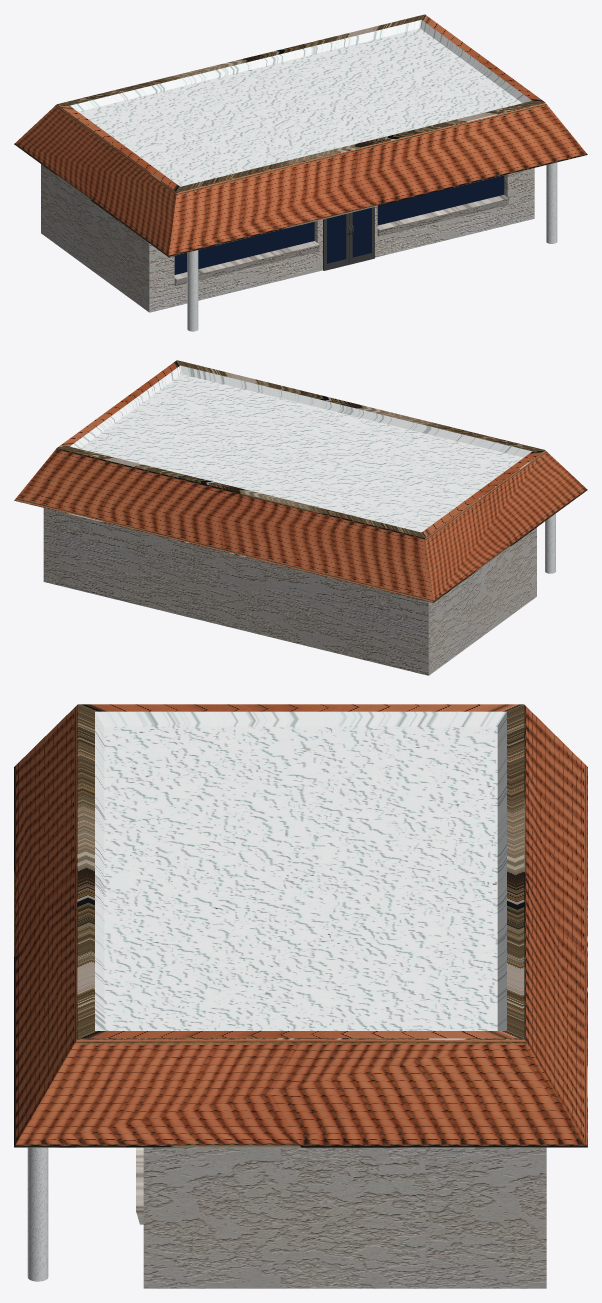
File: building_4.fbx
The picture shows the model from 3 angles, top to bottom: view 1: azimuth 30°, elevation 25°; view 2: azimuth 150°, elevation 25°; view 3: azimuth 270°, elevation 25°; orthographic projection. The views are drawn at different scales.
Parts seen in each view (by area): view 1: pCube2, pCube1, pCube5, pTorus3, pCylinder1, pCylinder2; view 2: pCube2, pCube1, pCylinder1; view 3: pCube2, pCube1, pCylinder2.
Boxes of the visible parts, box(x1,y1,x2,y2) form: pCube2: box(14, 14, 587, 257); pCube1: box(41, 164, 534, 312); pCube5: box(323, 213, 350, 270); pTorus3: box(349, 207, 374, 264); pCylinder1: box(187, 250, 198, 331); pCylinder2: box(546, 162, 557, 243); pCube2: box(14, 360, 587, 602); pCube1: box(43, 508, 536, 675); pCylinder1: box(545, 513, 555, 573); pCube2: box(14, 704, 587, 1147); pCube1: box(136, 1147, 546, 1288); pCylinder2: box(27, 1147, 48, 1281).
Bounding box in the file's own units: 909 × 271 × 579.
5 materials, 3 textured.
